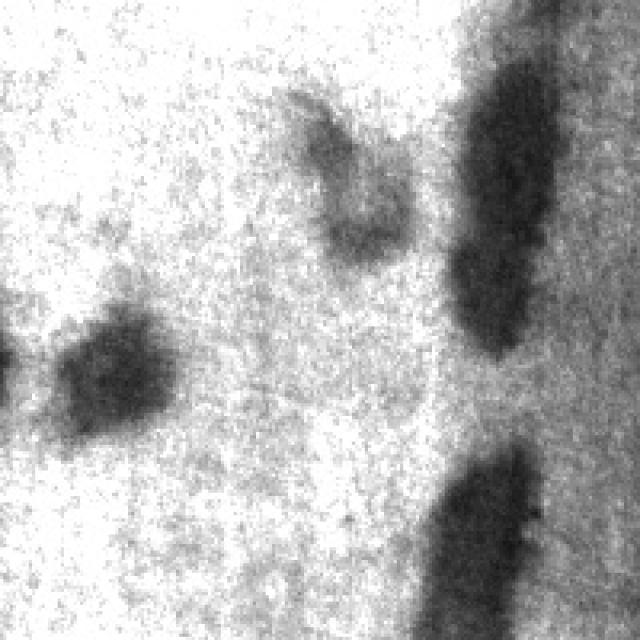patches: (451, 42, 573, 348), (419, 432, 547, 637), (294, 80, 422, 266), (48, 291, 202, 432)
